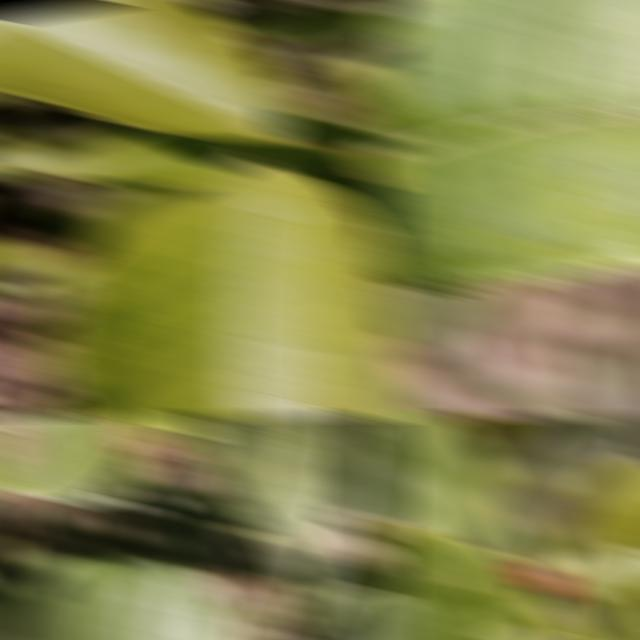Leaf: (41, 157, 401, 418), (379, 0, 640, 292), (0, 0, 293, 142), (191, 414, 360, 629), (16, 113, 392, 187), (0, 558, 261, 640), (379, 521, 558, 640), (0, 414, 191, 506), (379, 414, 512, 545), (545, 456, 640, 617), (55, 189, 177, 250), (337, 414, 401, 514), (252, 5, 401, 47), (323, 59, 401, 135), (338, 556, 401, 640), (0, 234, 57, 274), (0, 123, 41, 177), (593, 606, 639, 640)
